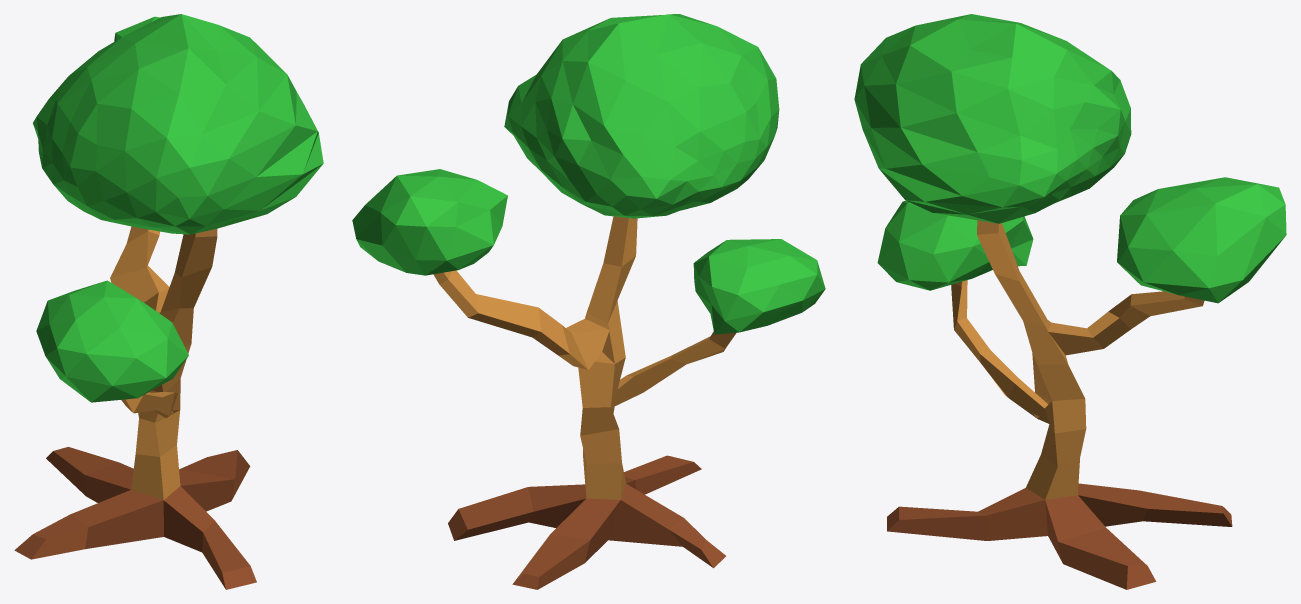
Rendered from Tree2.fbx.
The picture shows the model from 3 angles, left to right: view 1: azimuth 30°, elevation 25°; view 2: azimuth 150°, elevation 25°; view 3: azimuth 270°, elevation 25°; orthographic projection. The views are drawn at different scales.
Visible parts, largest first — view 1: Tree2_Leaves3, Tree2_Trunk, Tree2_Leaves2, Tree2_Branch1, Tree2_Branch2; view 2: Tree2_Leaves3, Tree2_Trunk, Tree2_Leaves1, Tree2_Leaves2, Tree2_Branch1, Tree2_Branch2; view 3: Tree2_Leaves3, Tree2_Trunk, Tree2_Leaves1, Tree2_Leaves2, Tree2_Branch1, Tree2_Branch2.
Boxes of the visible parts, <box> form: Tree2_Leaves3: <box>33,14,323,234</box>; Tree2_Trunk: <box>14,228,256,589</box>; Tree2_Leaves2: <box>36,280,188,402</box>; Tree2_Branch1: <box>110,226,169,312</box>; Tree2_Branch2: <box>121,391,177,417</box>; Tree2_Leaves3: <box>504,14,779,218</box>; Tree2_Trunk: <box>448,216,725,589</box>; Tree2_Leaves1: <box>352,169,507,275</box>; Tree2_Leaves2: <box>693,239,825,334</box>; Tree2_Branch1: <box>433,270,609,369</box>; Tree2_Branch2: <box>615,331,736,405</box>; Tree2_Leaves3: <box>854,14,1131,223</box>; Tree2_Trunk: <box>887,220,1232,589</box>; Tree2_Leaves1: <box>1117,177,1286,303</box>; Tree2_Leaves2: <box>877,200,1033,290</box>; Tree2_Branch1: <box>1048,291,1204,355</box>; Tree2_Branch2: <box>951,280,1049,423</box>.
Bounding box in the file's own units: 734 × 671 × 955.
